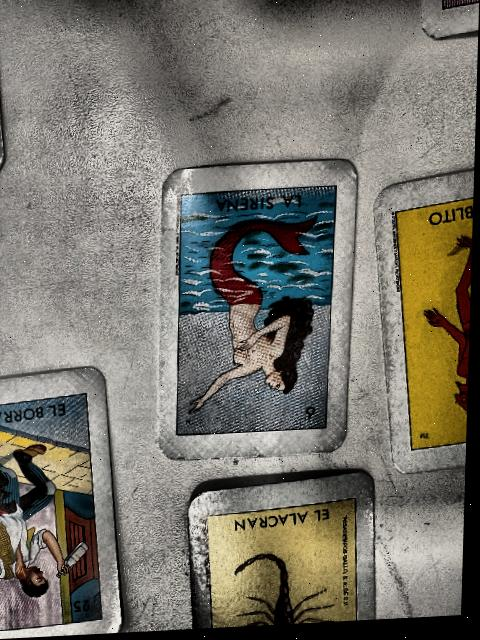La Sirena: (181, 191, 334, 437)
